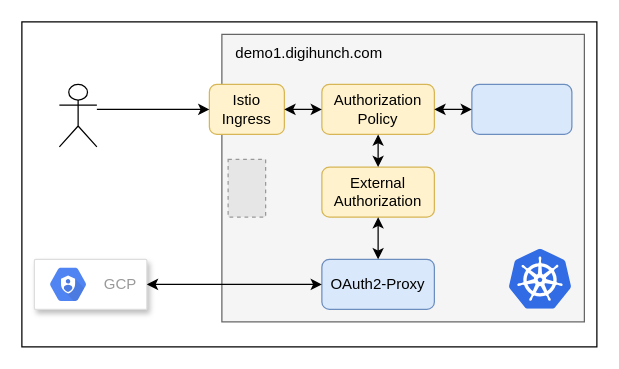
Image size: 619x369. Some labels were removed from this diagram. Grey dashed boxes stand in for pictures. Each missing label, with the centre of its shape:
"App HelloWorld" goes at point (521, 108).
"User" goes at point (77, 115).
